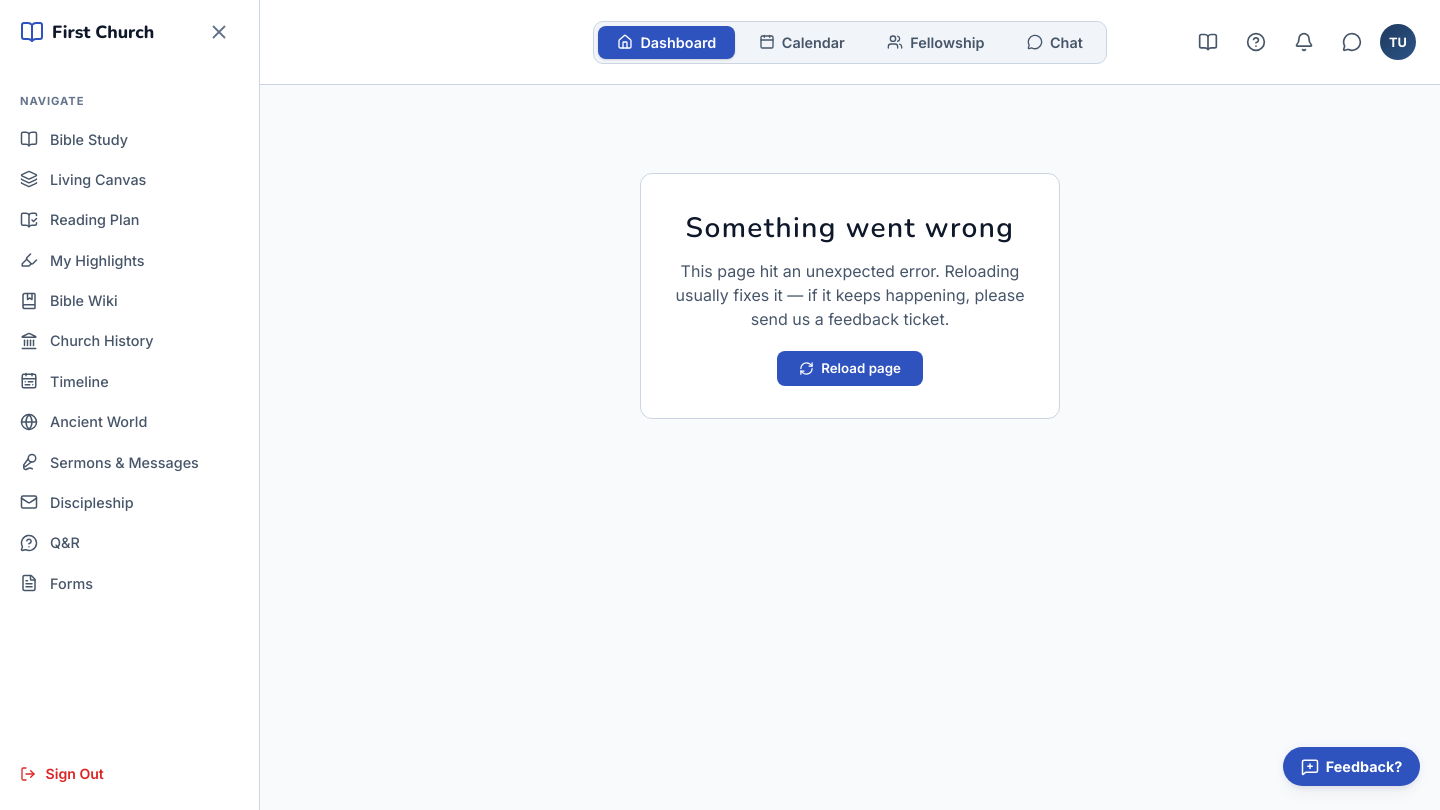
Scenario: Organization switching and joining › shows error in modal for invalid join code
Click the button with aria-label "Test User" at (1398, 42), box [1380,24,1416,60]
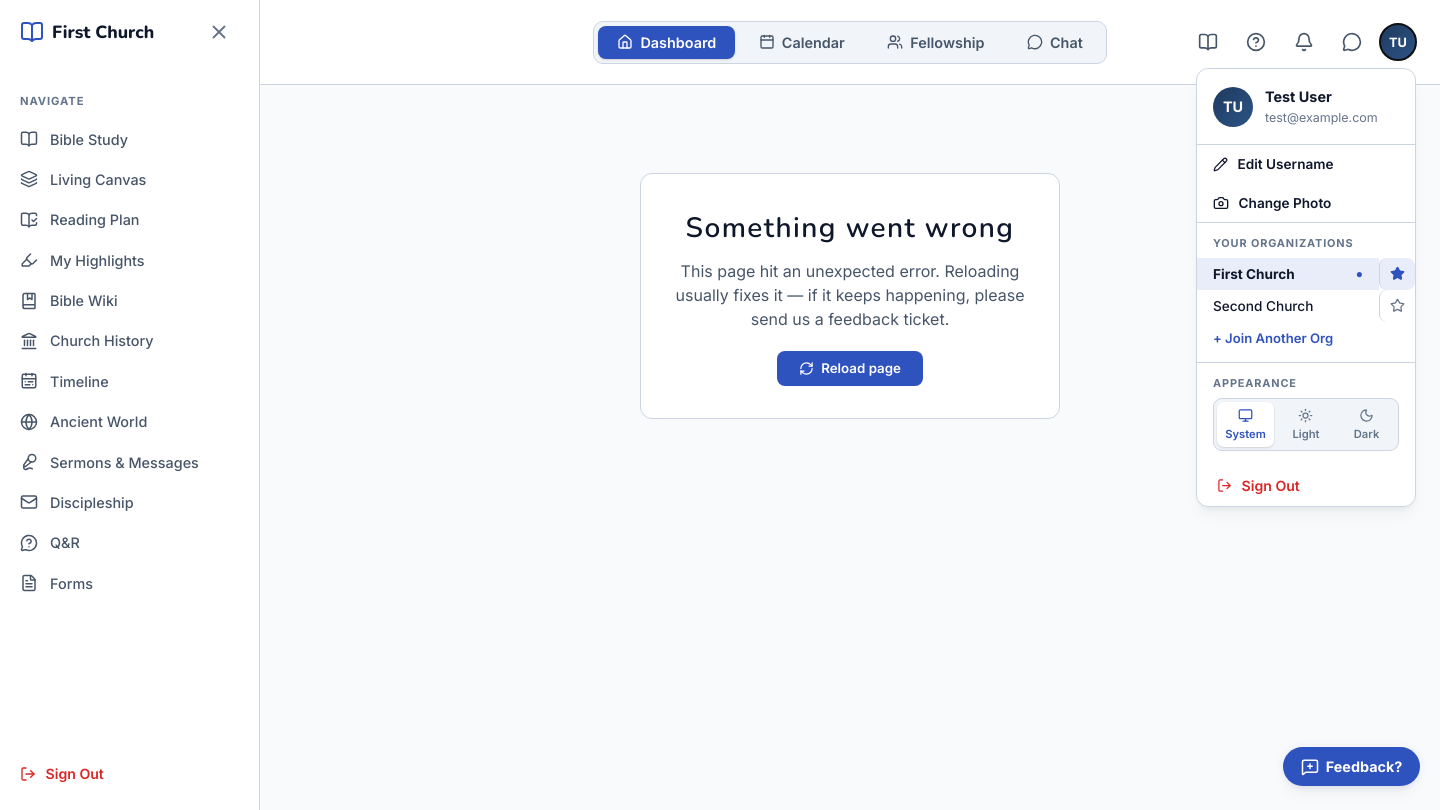
Click the button "+ Join Another Org" at (1306, 338), box [1197,322,1415,354]
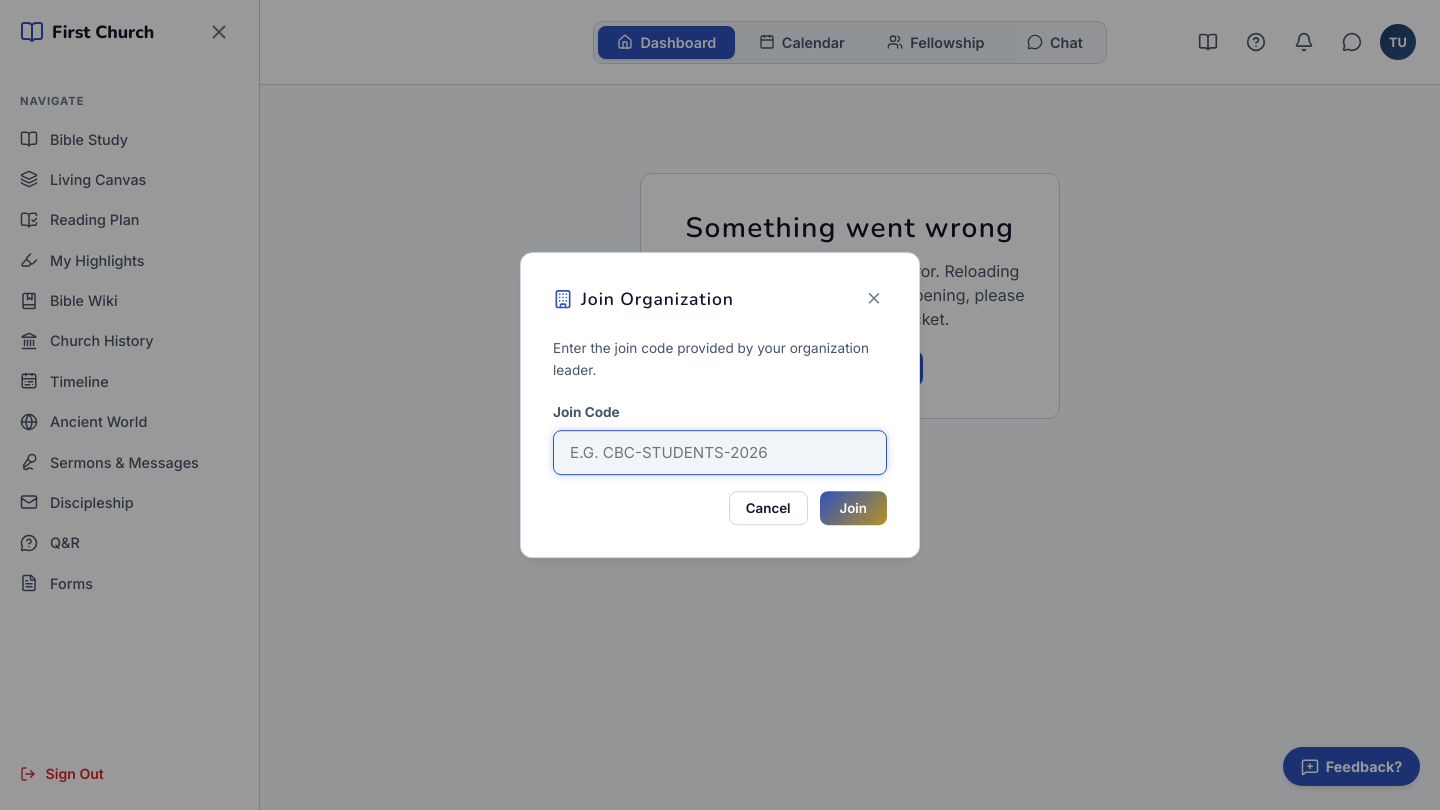
Type "BAD-CODE" into the field labelled "Join Code" at (720, 452), box [553,430,887,475]
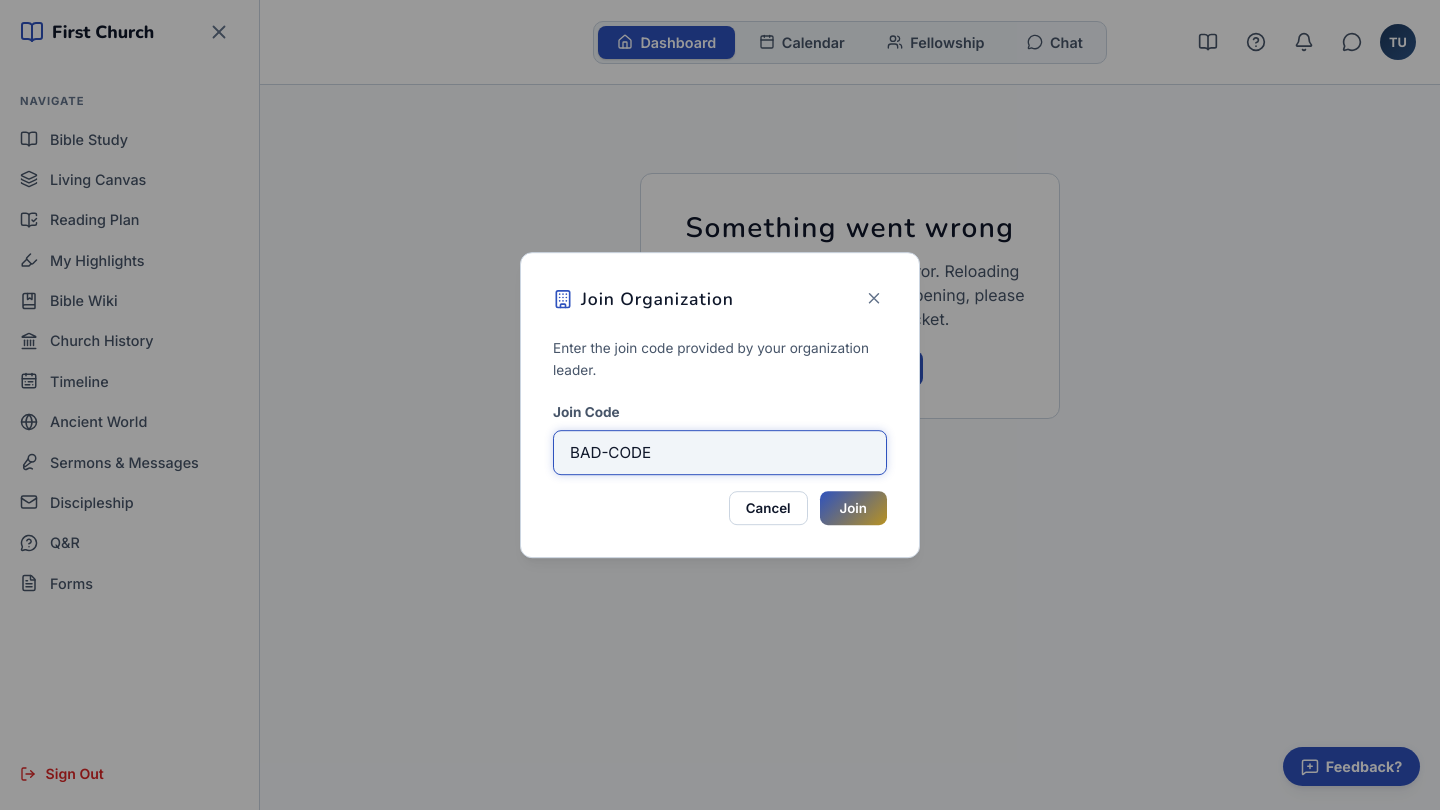
Click the button "Join" at (853, 508), box [820,491,887,525]
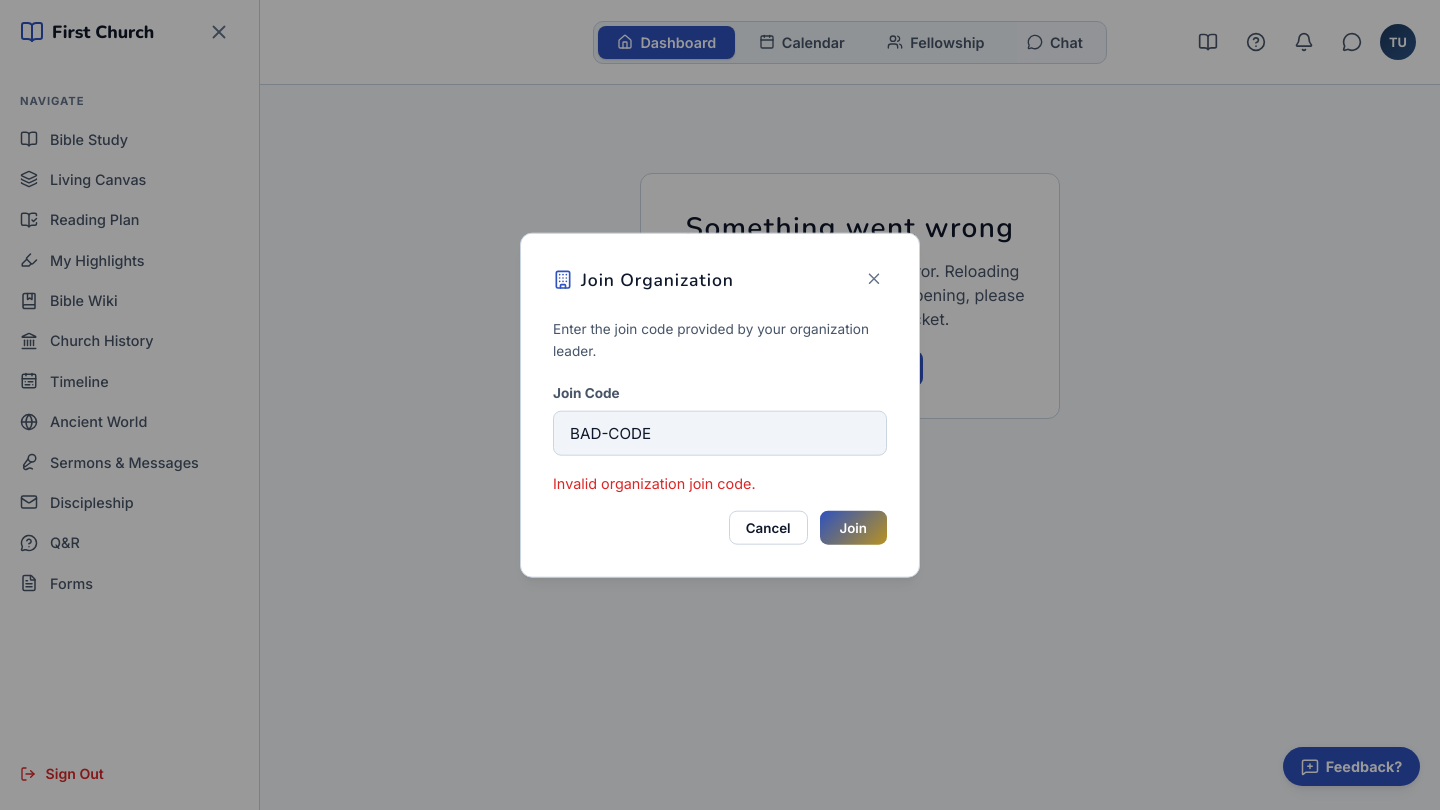
Expected: the text "Invalid organization join code." is shown, [553,474,756,491]
